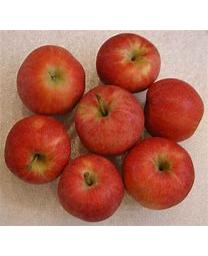apple: (122, 137, 194, 210), (74, 84, 144, 155), (16, 44, 85, 115), (4, 114, 71, 183), (56, 153, 123, 221), (95, 32, 160, 92), (143, 77, 203, 142)
